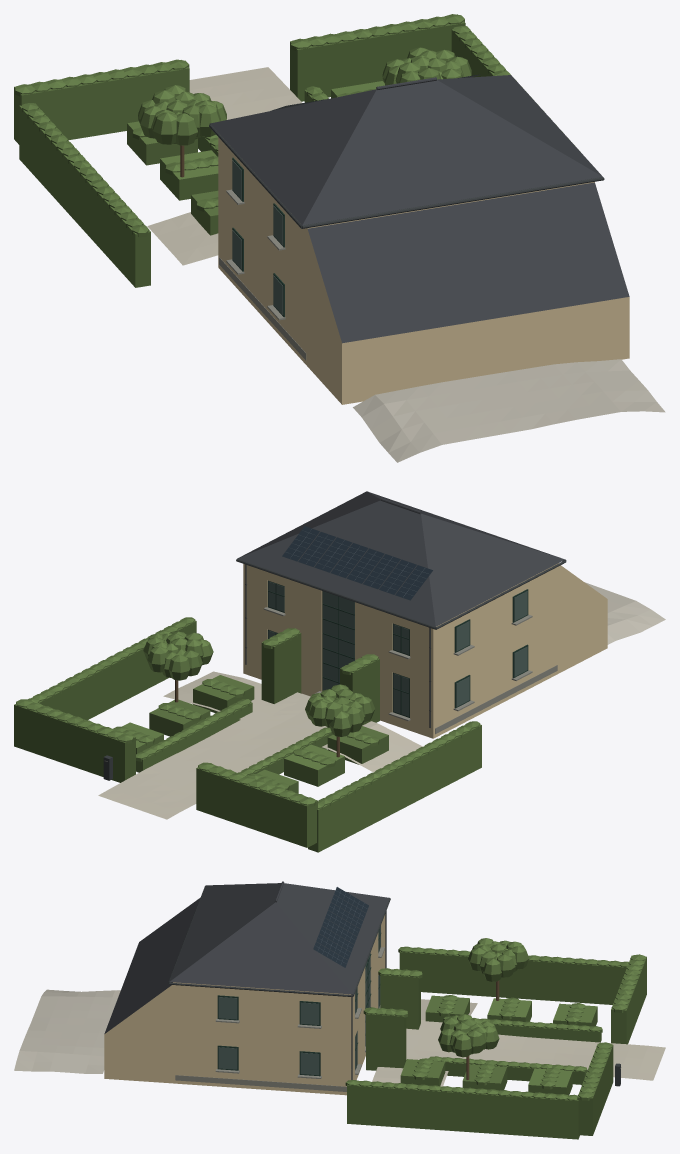
The model's file is kouter_house.glb.
3 views of the same model, one above another, from view 1: azimuth 30°, elevation 25°; view 2: azimuth 150°, elevation 25°; view 3: azimuth 270°, elevation 25° (orthographic). The views are drawn at different scales.
Parts seen in each view (by area): view 1: kouter_roof, kouter_leaves, kouter_brick, kouter_paving, kouter_gravel, kouter_metal, kouter_glass, kouter_stone; view 2: kouter_leaves, kouter_brick, kouter_roof, kouter_gravel, kouter_glass, kouter_solar, kouter_frame, kouter_paving, kouter_metal, kouter_stone; view 3: kouter_leaves, kouter_brick, kouter_roof, kouter_paving, kouter_gravel, kouter_solar, kouter_glass, kouter_stone, kouter_metal, kouter_frame.
Part boxes in pixels (x1,y1,x2,y2): kouter_roof: [210, 75, 629, 343]; kouter_leaves: [14, 14, 578, 287]; kouter_brick: [218, 137, 629, 404]; kouter_paving: [353, 359, 665, 462]; kouter_gravel: [147, 67, 301, 265]; kouter_metal: [209, 74, 604, 228]; kouter_glass: [232, 160, 283, 314]; kouter_stone: [219, 189, 306, 360]; kouter_leaves: [14, 617, 481, 852]; kouter_brick: [243, 563, 607, 738]; kouter_roof: [237, 491, 564, 626]; kouter_gravel: [98, 671, 422, 819]; kouter_glass: [268, 581, 527, 716]; kouter_solar: [282, 526, 432, 600]; kouter_frame: [267, 580, 528, 717]; kouter_paving: [584, 582, 665, 644]; kouter_metal: [103, 495, 566, 780]; kouter_stone: [104, 607, 557, 761]; kouter_leaves: [345, 938, 646, 1139]; kouter_brick: [104, 914, 385, 1095]; kouter_roof: [104, 881, 389, 1033]; kouter_paving: [14, 989, 120, 1073]; kouter_gravel: [372, 999, 665, 1086]; kouter_solar: [313, 887, 368, 967]; kouter_glass: [218, 926, 380, 1075]; kouter_stone: [175, 947, 621, 1091]; kouter_metal: [168, 885, 620, 1086]; kouter_frame: [217, 929, 381, 1076].
Size of the model in its own units: 20.51 by 9.56 by 35.31.
